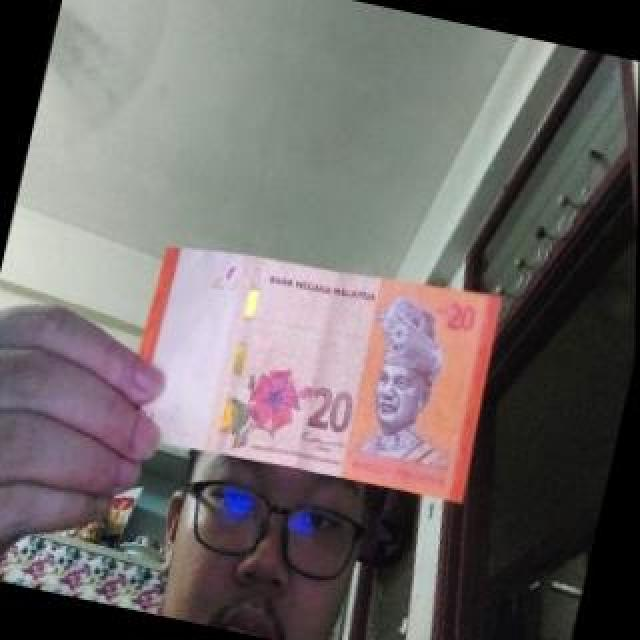20 Ringgit: (106, 210, 516, 524)
